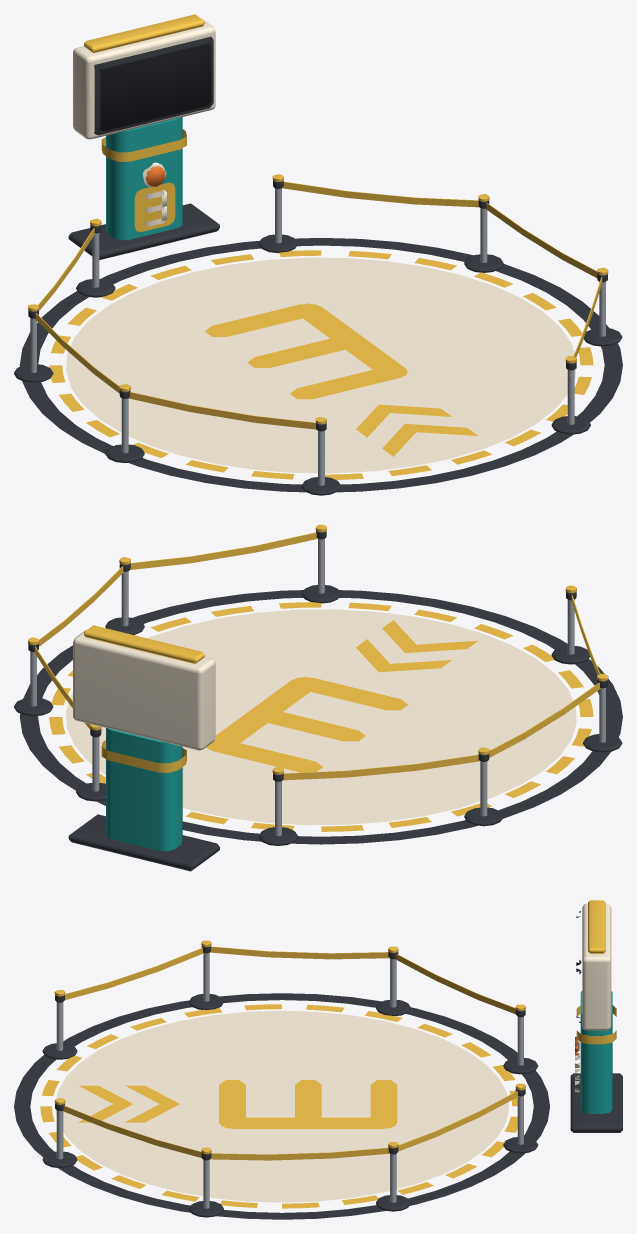
File: PuertaSala3.fbx
3 renders of one model, top to bottom at view 1: azimuth 30°, elevation 25°; view 2: azimuth 150°, elevation 25°; view 3: azimuth 270°, elevation 25°, orthographic. The views are drawn at different scales.
Visible parts, largest first — view 1: PuertaSala3; view 2: PuertaSala3; view 3: PuertaSala3.
Part boxes in pixels (<box>): PuertaSala3: <box>14,14,622,495</box>; PuertaSala3: <box>14,524,622,871</box>; PuertaSala3: <box>14,900,622,1219</box>.
Bounding box in the file's own units: 9.2 × 3.47 × 10.45.
Materials: 1 (1 with a texture image).
